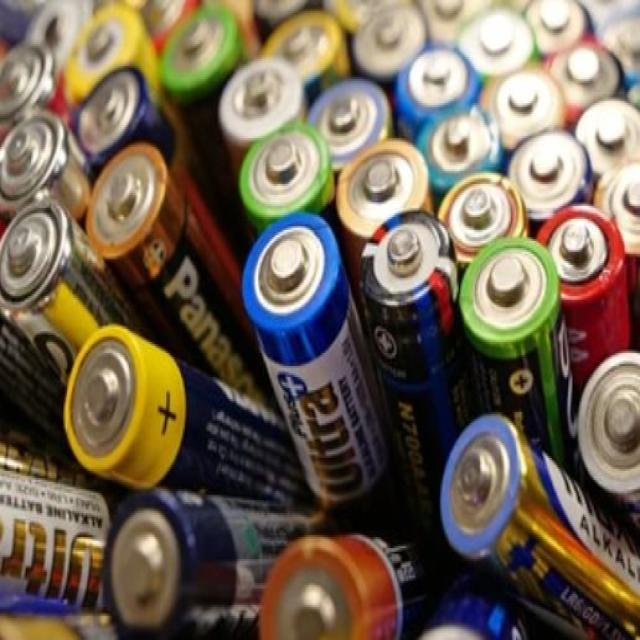electronic: (210, 183, 414, 534)
